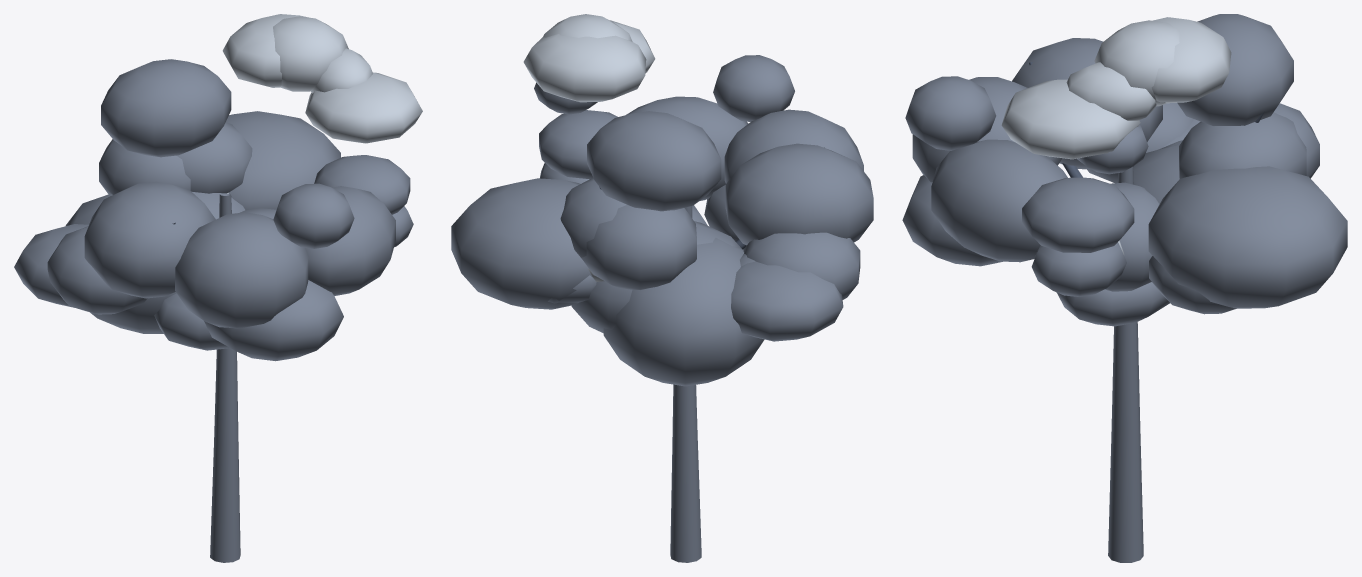
Rendered from 圆冠乔木-lite.glb.
3 views of the same model, side by side, from view 1: azimuth 30°, elevation 25°; view 2: azimuth 150°, elevation 25°; view 3: azimuth 270°, elevation 25° (orthographic). The views are drawn at different scales.
Parts seen in each view (by area): view 1: garden-tree-rounded-leaf, garden-tree-rounded-light, garden-tree-rounded-trunk; view 2: garden-tree-rounded-leaf, garden-tree-rounded-light, garden-tree-rounded-trunk; view 3: garden-tree-rounded-leaf, garden-tree-rounded-light, garden-tree-rounded-trunk.
Boxes of the visible parts, x1,y1,x2,y2 form: garden-tree-rounded-leaf: (14, 59, 413, 361); garden-tree-rounded-light: (222, 14, 422, 193); garden-tree-rounded-trunk: (210, 194, 240, 562); garden-tree-rounded-leaf: (451, 55, 873, 386); garden-tree-rounded-light: (523, 14, 655, 281); garden-tree-rounded-trunk: (670, 206, 701, 562); garden-tree-rounded-leaf: (902, 14, 1347, 326); garden-tree-rounded-light: (1001, 17, 1231, 255); garden-tree-rounded-trunk: (1108, 166, 1143, 562).
Bounding box in the file's own units: 2.1 × 3 × 2.1.
